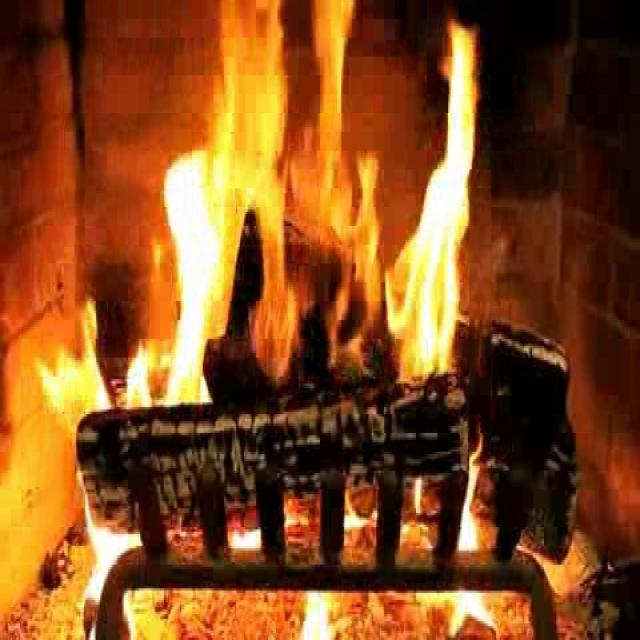fire: (150, 24, 483, 404)
